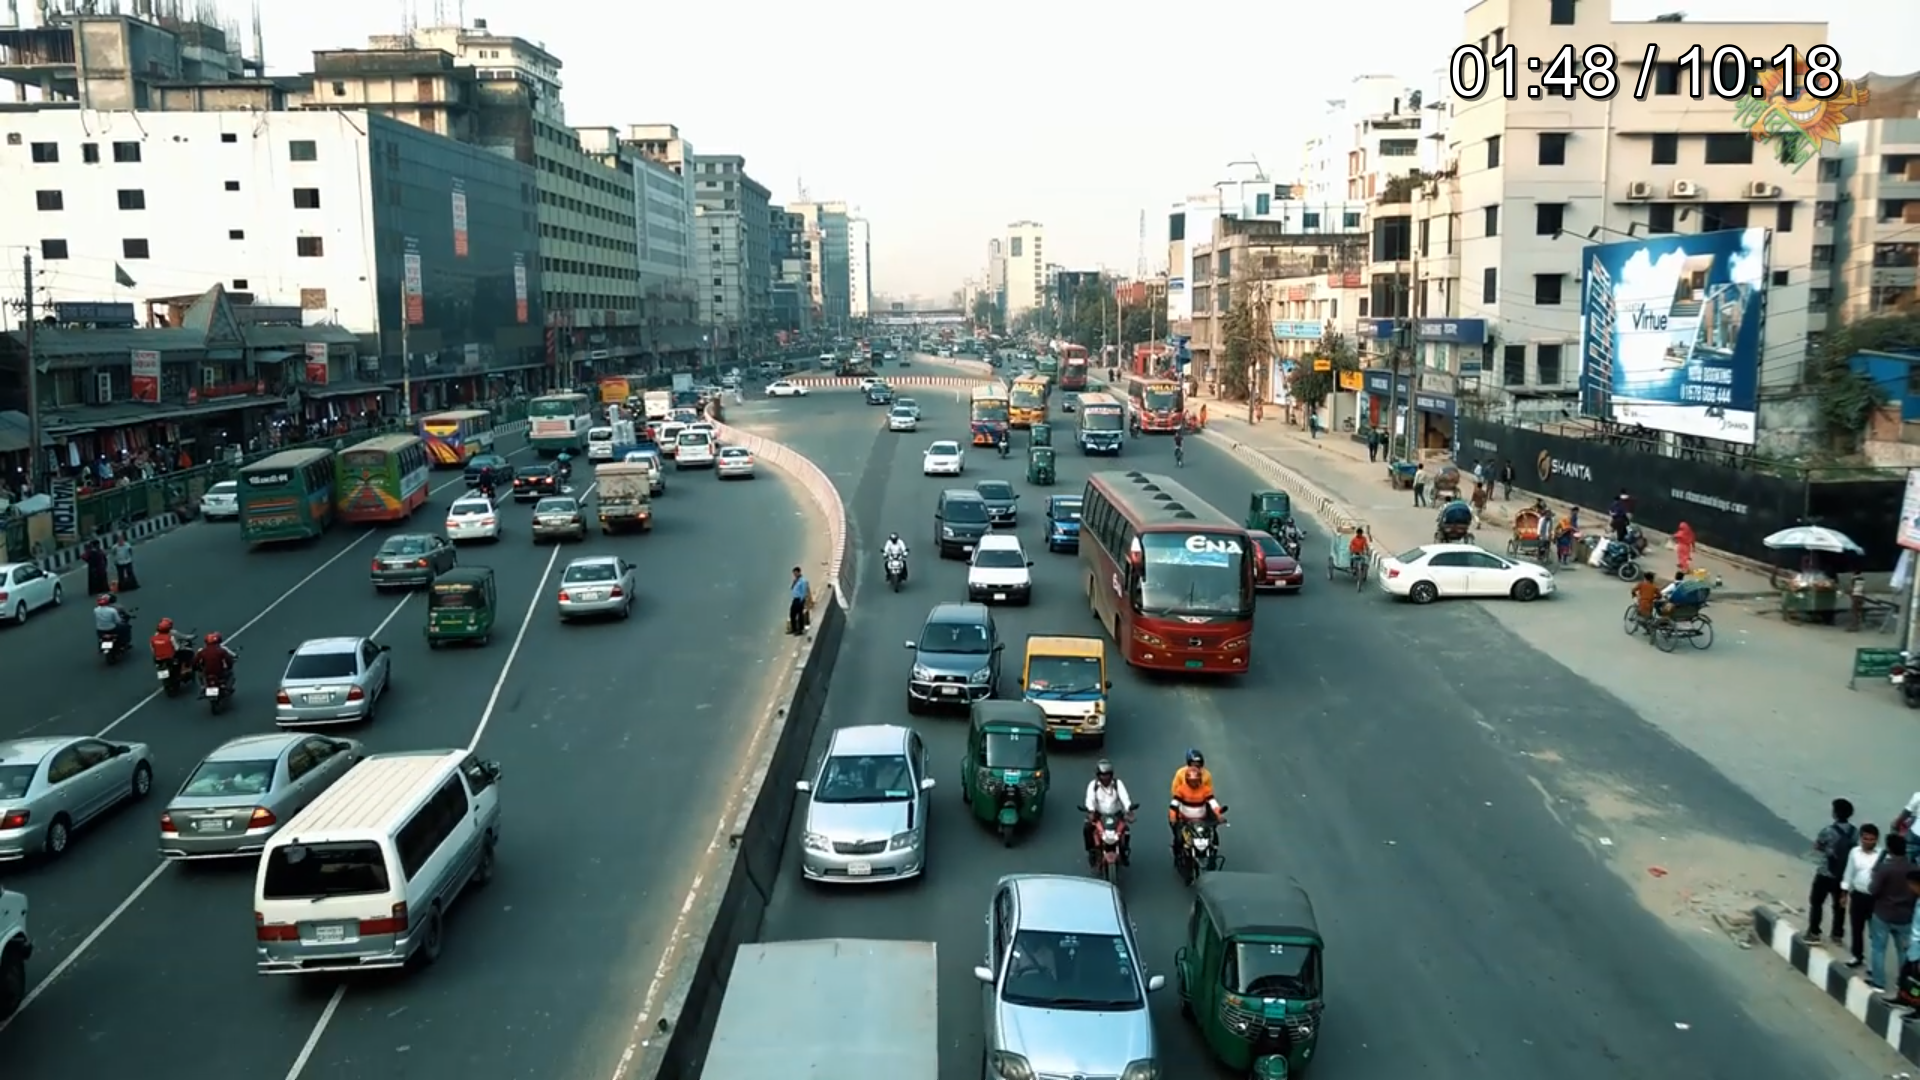HeavyVehicle: (1077, 462, 1274, 698), (239, 444, 335, 551), (336, 429, 433, 530), (1139, 378, 1189, 434)
LightVehicle: (798, 720, 939, 897), (956, 692, 1060, 861), (1374, 541, 1560, 607)
MotorCycle: (1164, 746, 1222, 876), (1079, 756, 1129, 884), (558, 559, 636, 633), (203, 624, 243, 721), (152, 608, 189, 700), (94, 591, 133, 666), (877, 526, 911, 596)
